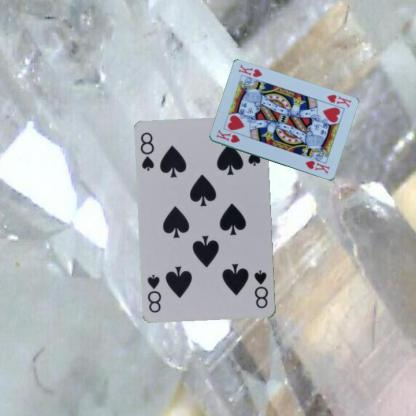8s: (251, 268, 270, 310), (138, 129, 156, 173)
Kh: (214, 127, 241, 145), (324, 92, 352, 109)
